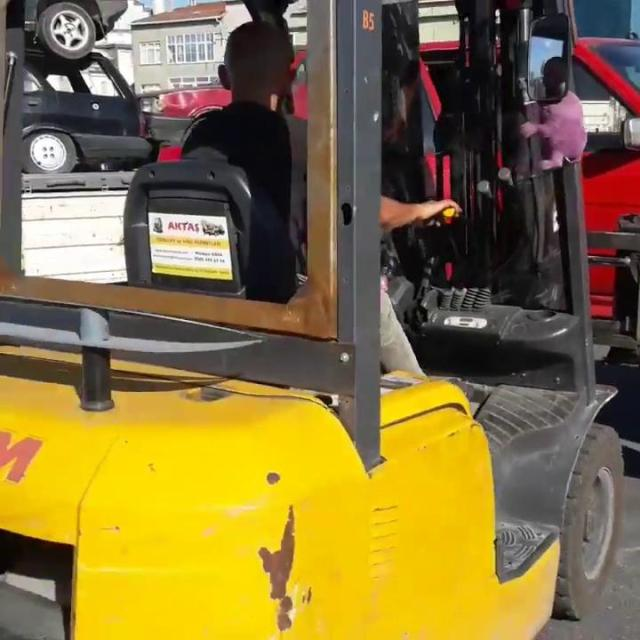forklift: (1, 147, 623, 640)
person: (130, 14, 474, 418)
